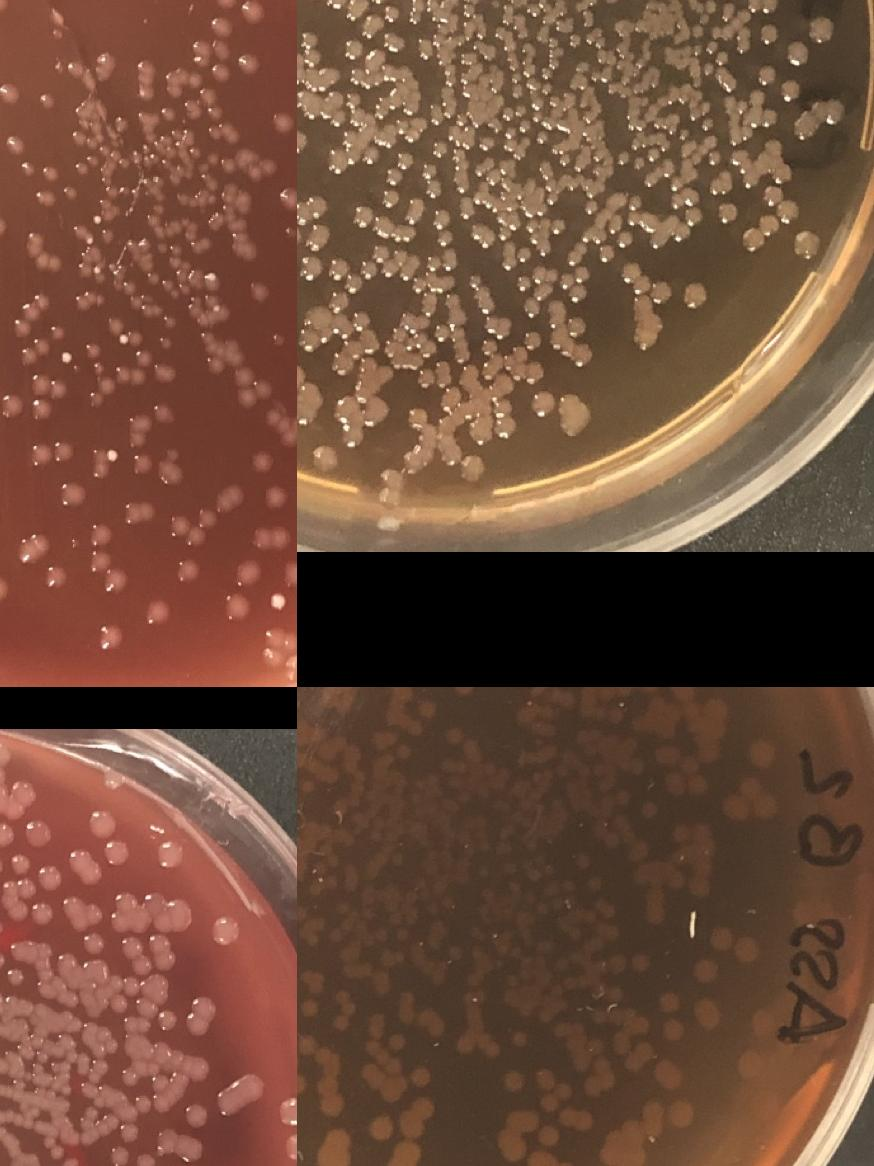assalmonicida: (726, 739, 778, 822), (384, 1094, 433, 1166), (654, 744, 708, 802), (493, 1106, 538, 1162), (654, 990, 686, 1042), (317, 1127, 349, 1166), (691, 996, 720, 1030), (525, 1151, 580, 1166), (317, 1090, 345, 1118), (366, 1116, 394, 1144), (498, 1067, 525, 1095), (534, 1123, 558, 1149), (640, 1099, 664, 1125), (668, 1101, 692, 1127), (692, 958, 716, 984), (708, 928, 732, 954), (733, 936, 757, 962), (738, 1054, 762, 1080), (751, 1008, 775, 1034), (534, 1066, 557, 1092), (654, 1056, 677, 1082), (754, 794, 776, 820), (452, 1034, 476, 1056), (630, 951, 653, 973), (703, 698, 726, 720), (298, 997, 320, 1019), (358, 1062, 380, 1084), (392, 743, 414, 765), (402, 717, 424, 739), (418, 698, 440, 720), (441, 724, 463, 746), (606, 954, 628, 976), (697, 742, 719, 764), (297, 1033, 317, 1055), (390, 687, 412, 699), (452, 687, 475, 697)
pdpiscicida: (168, 488, 238, 550), (87, 350, 150, 408), (87, 522, 125, 592), (259, 625, 297, 678), (18, 326, 64, 366), (11, 294, 49, 338), (232, 368, 272, 408), (25, 230, 62, 272), (261, 407, 297, 449), (181, 86, 216, 119), (250, 526, 290, 554), (18, 532, 50, 565), (30, 374, 68, 400), (128, 413, 149, 449), (121, 280, 143, 312), (144, 600, 169, 627), (223, 594, 248, 621), (28, 442, 52, 468), (42, 564, 66, 590), (60, 482, 84, 508), (96, 626, 120, 652), (176, 560, 200, 586), (261, 484, 285, 510), (240, 0, 264, 25), (123, 502, 146, 528), (160, 460, 183, 486), (236, 559, 259, 585), (90, 448, 108, 480), (0, 82, 22, 108), (0, 392, 22, 418), (4, 134, 26, 160), (238, 51, 260, 77), (270, 109, 292, 135), (210, 15, 232, 40), (276, 183, 297, 209), (166, 241, 184, 271), (37, 92, 57, 112), (54, 441, 74, 461), (154, 404, 174, 424), (250, 280, 270, 300), (252, 452, 272, 472), (206, 356, 225, 376), (210, 64, 229, 84), (32, 399, 50, 419), (133, 456, 153, 474), (284, 563, 297, 589), (18, 161, 36, 177), (73, 161, 90, 177), (189, 240, 206, 256), (44, 166, 60, 182), (72, 223, 88, 239), (74, 296, 90, 312), (98, 228, 114, 244), (128, 332, 144, 348), (206, 126, 222, 142), (214, 0, 237, 11), (63, 186, 78, 202), (107, 319, 122, 335), (156, 336, 172, 351), (86, 344, 100, 360), (104, 184, 118, 200), (146, 213, 160, 228), (36, 190, 50, 204), (164, 314, 178, 328)
sinniae: (324, 254, 380, 380), (740, 196, 800, 256), (498, 84, 542, 144), (753, 57, 803, 108), (557, 250, 590, 304), (566, 314, 594, 374), (297, 193, 329, 228), (380, 166, 402, 212), (754, 19, 782, 53), (807, 13, 833, 48), (457, 452, 484, 485), (529, 389, 555, 423), (682, 280, 708, 314), (784, 38, 810, 72), (792, 230, 818, 264), (420, 160, 442, 200), (430, 209, 452, 248), (645, 278, 672, 308), (364, 0, 397, 24), (516, 295, 544, 323), (338, 35, 365, 64), (616, 256, 642, 286), (311, 444, 338, 472), (408, 35, 434, 64), (564, 31, 605, 49), (332, 394, 358, 422), (348, 203, 374, 231), (380, 26, 406, 54), (404, 404, 430, 432), (493, 415, 519, 443), (520, 326, 546, 354), (520, 359, 546, 387), (714, 199, 740, 227), (665, 175, 685, 211), (297, 254, 321, 282), (297, 325, 321, 353), (704, 40, 728, 68), (703, 0, 735, 21), (616, 149, 643, 173), (297, 25, 320, 53), (540, 82, 559, 108), (430, 323, 450, 345), (477, 338, 497, 360), (683, 205, 703, 227), (597, 242, 615, 266), (425, 103, 444, 125), (430, 138, 449, 160), (540, 58, 559, 80), (344, 88, 362, 110), (416, 369, 434, 391), (456, 198, 474, 220), (297, 129, 309, 157), (476, 135, 494, 153), (514, 246, 532, 264), (514, 276, 532, 294), (548, 220, 566, 238), (572, 57, 590, 75), (596, 66, 614, 84), (615, 230, 633, 248), (640, 172, 658, 190), (483, 169, 501, 186), (402, 210, 420, 226), (522, 4, 540, 20), (297, 358, 305, 392), (583, 199, 597, 217), (626, 194, 640, 212), (646, 146, 660, 164), (676, 126, 690, 144), (700, 60, 714, 78), (700, 116, 714, 134), (706, 148, 720, 166), (461, 4, 476, 20), (544, 35, 559, 49), (557, 154, 572, 168), (536, 131, 550, 145), (512, 148, 526, 160), (498, 15, 512, 26), (519, 56, 533, 66)
vharveyi: (220, 1078, 260, 1113), (67, 848, 102, 885), (184, 996, 215, 1035), (122, 938, 150, 975), (28, 900, 59, 928), (23, 821, 52, 849), (149, 936, 173, 969), (36, 865, 64, 893), (10, 780, 36, 807), (155, 841, 182, 867), (120, 1098, 149, 1122), (80, 931, 106, 957), (88, 813, 114, 839), (103, 841, 129, 867), (184, 1103, 210, 1129), (212, 919, 238, 945), (78, 1106, 100, 1133), (123, 1015, 152, 1034), (279, 1100, 297, 1126), (0, 822, 15, 848), (132, 1151, 158, 1166), (108, 1147, 128, 1166), (156, 1012, 174, 1032), (284, 1135, 297, 1161), (121, 978, 139, 996), (7, 970, 24, 986), (61, 1157, 89, 1166), (120, 1072, 138, 1086), (120, 1126, 138, 1140), (47, 1144, 62, 1160), (111, 996, 126, 1012), (0, 738, 9, 764), (12, 857, 27, 872), (184, 1144, 200, 1158)
